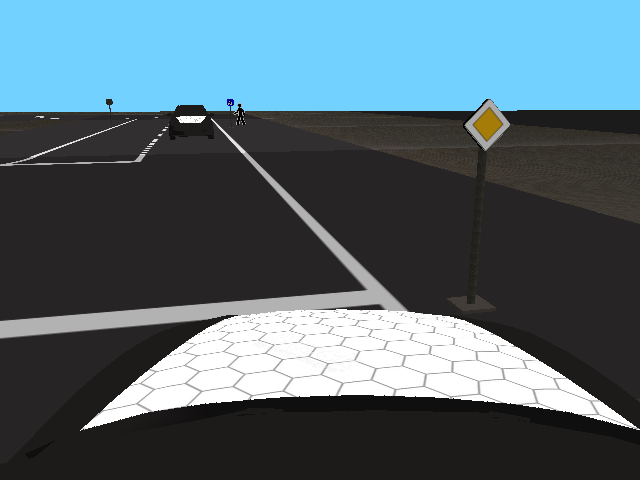priority: (463, 98, 511, 153)
